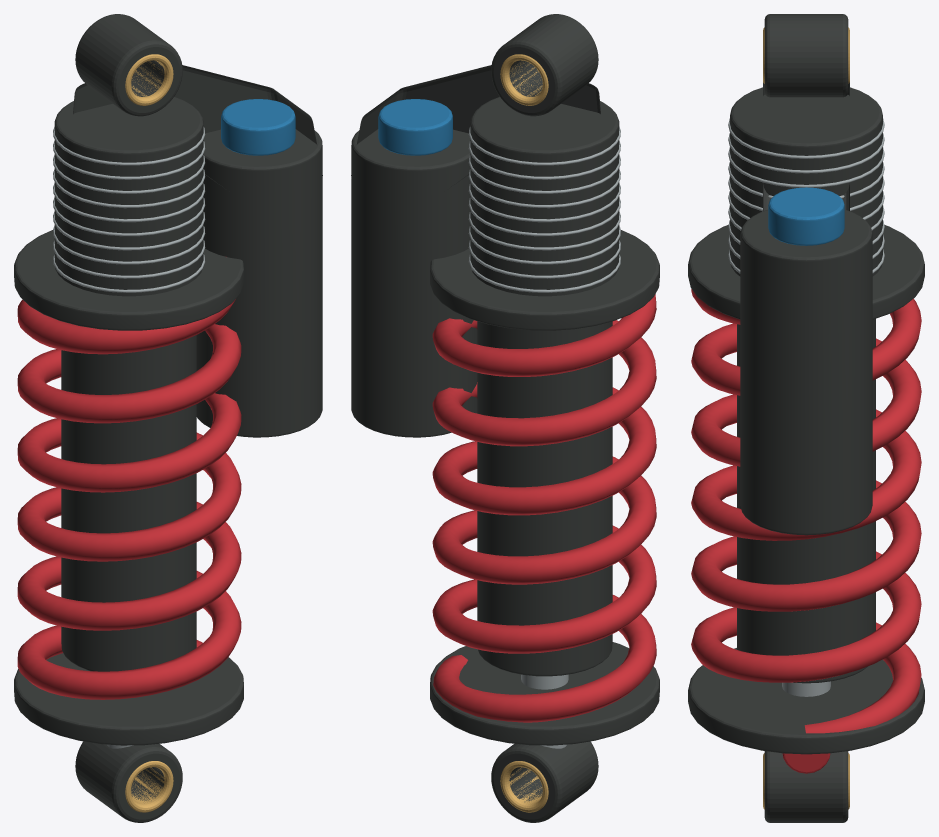
File: rockshox-vivid-coil-ultimate-d1--e8d7b997.glb
3 views of the same model, side by side, from view 1: azimuth 30°, elevation 25°; view 2: azimuth 150°, elevation 25°; view 3: azimuth 270°, elevation 25° (orthographic). The views are drawn at different scales.
Visible parts, largest first — view 1: rockshox-vivid-coil-ultimate-d1--e8d7b997__link, rockshox-vivid-coil-ultimate-d1--e8d7b997__rebound, rockshox-vivid-coil-ultimate-d1--e8d7b997__bolts, rockshox-vivid-coil-ultimate-d1--e8d7b997__adjuster, rockshox-vivid-coil-ultimate-d1--e8d7b997__stanchions; view 2: rockshox-vivid-coil-ultimate-d1--e8d7b997__link, rockshox-vivid-coil-ultimate-d1--e8d7b997__rebound, rockshox-vivid-coil-ultimate-d1--e8d7b997__bolts, rockshox-vivid-coil-ultimate-d1--e8d7b997__adjuster, rockshox-vivid-coil-ultimate-d1--e8d7b997__stanchions; view 3: rockshox-vivid-coil-ultimate-d1--e8d7b997__link, rockshox-vivid-coil-ultimate-d1--e8d7b997__rebound, rockshox-vivid-coil-ultimate-d1--e8d7b997__bolts, rockshox-vivid-coil-ultimate-d1--e8d7b997__adjuster, rockshox-vivid-coil-ultimate-d1--e8d7b997__stanchions.
Part boxes in pixels (left/top/right/bottom): rockshox-vivid-coil-ultimate-d1--e8d7b997__link: left=14, top=14, right=322, bottom=822; rockshox-vivid-coil-ultimate-d1--e8d7b997__rebound: left=17, top=299, right=241, bottom=699; rockshox-vivid-coil-ultimate-d1--e8d7b997__bolts: left=53, top=127, right=205, bottom=748; rockshox-vivid-coil-ultimate-d1--e8d7b997__adjuster: left=221, top=99, right=295, bottom=155; rockshox-vivid-coil-ultimate-d1--e8d7b997__stanchions: left=125, top=54, right=173, bottom=812; rockshox-vivid-coil-ultimate-d1--e8d7b997__link: left=351, top=14, right=659, bottom=822; rockshox-vivid-coil-ultimate-d1--e8d7b997__rebound: left=432, top=294, right=656, bottom=722; rockshox-vivid-coil-ultimate-d1--e8d7b997__bolts: left=468, top=127, right=620, bottom=748; rockshox-vivid-coil-ultimate-d1--e8d7b997__adjuster: left=378, top=99, right=452, bottom=155; rockshox-vivid-coil-ultimate-d1--e8d7b997__stanchions: left=500, top=54, right=548, bottom=812; rockshox-vivid-coil-ultimate-d1--e8d7b997__link: left=688, top=14, right=924, bottom=822; rockshox-vivid-coil-ultimate-d1--e8d7b997__rebound: left=691, top=289, right=921, bottom=773; rockshox-vivid-coil-ultimate-d1--e8d7b997__bolts: left=728, top=118, right=884, bottom=696; rockshox-vivid-coil-ultimate-d1--e8d7b997__adjuster: left=768, top=187, right=844, bottom=245; rockshox-vivid-coil-ultimate-d1--e8d7b997__stanchions: left=763, top=27, right=849, bottom=809.
Size of the model in its own units: 0.097 by 0.254 by 0.068.
